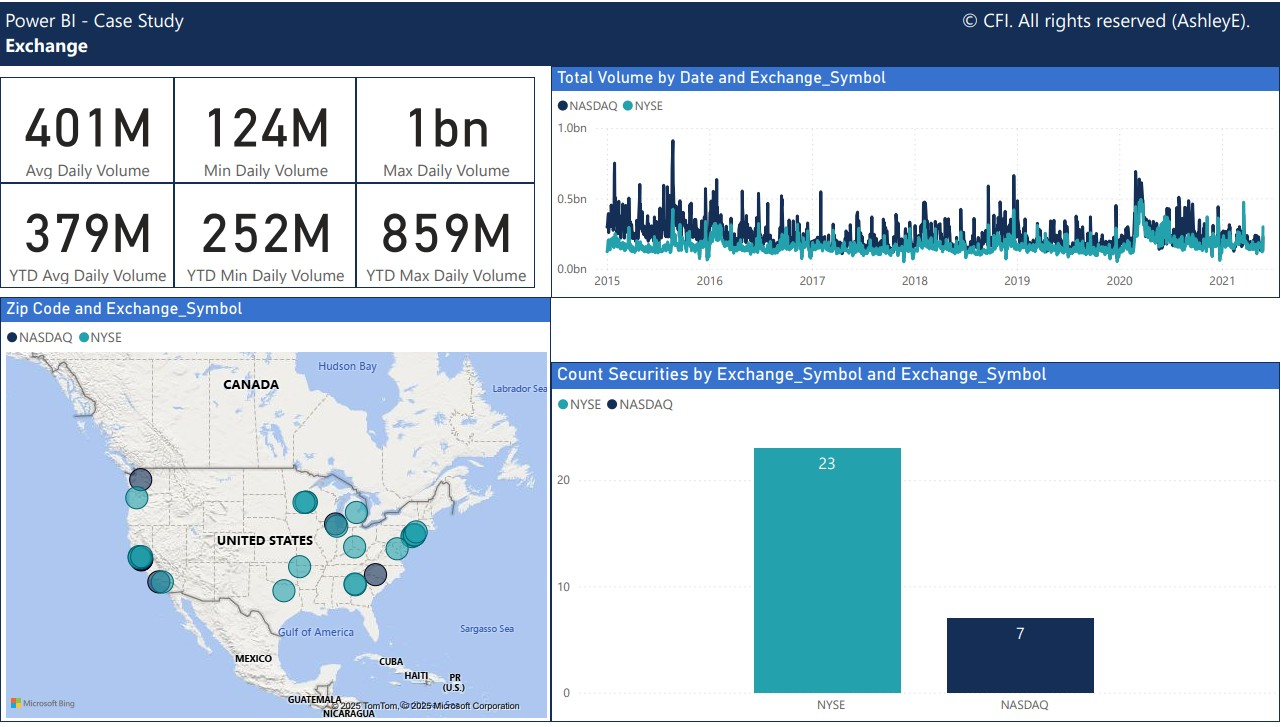

This screenshot's page, from the dashboard's own definition file:
{"tool":"powerbi","page":{"name":"Exchange","canvas":[1280,720],"ordinal":0},"visuals":[{"type":"group","id":"g1","title":"Group 1","box":[0,0,1280,64],"z":0},{"type":"map","fields":{"Category":["dimSecurity.Zip Code"],"Series":["dimExchange.Exchange_Symbol"]},"box":[0,295,550.9,425.1],"z":1000},{"type":"lineChart","fields":{"Y":["factActivity.Total Volume"],"Category":["dimDate.Date"],"Series":["dimExchange.Exchange_Symbol"]},"box":[550.9,64.2,729.1,231.7],"z":2000},{"type":"columnChart","fields":{"Category":["dimExchange.Exchange_Symbol"],"Y":["factActivity.Count Securities"],"Series":["dimExchange.Exchange_Symbol"]},"box":[550.9,360.2,729.1,360.2],"z":3000},{"type":"card","fields":{"Values":["factActivity.Avg Daily Volume"]},"box":[0,75.2,173.5,105.6],"z":4000},{"type":"card","fields":{"Values":["factActivity.Min Daily Volume"]},"box":[173.5,75.2,182.2,105.6],"z":5000},{"type":"card","fields":{"Values":["factActivity.Max Daily Volume"]},"box":[355.7,75.2,179.3,105.6],"z":6000},{"type":"card","fields":{"Values":["factActivity.YTD Avg Daily Volume"]},"box":[0,180.8,173.5,105.6],"z":7000},{"type":"card","fields":{"Values":["factActivity.YTD Min Daily Volume"]},"box":[173.5,180.8,182.2,105.6],"z":8000},{"type":"card","fields":{"Values":["factActivity.YTD Max Daily Volume"]},"box":[355.7,180.8,179.3,105.6],"z":9000},{"type":"shape","box":[0,0,1280,64],"z":14000,"group":"g1"},{"type":"textbox","box":[0,0,1280,64],"z":15000,"group":"g1"}]}

Visuals, with their boxes in screenshot pixels (x1, y1, x2, y2), scaled from the page's 1280x720 canvas onto the 1281x727 screenshot:
"Group 1" group: BBox(0, 0, 1280, 65)
map - dimSecurity.Zip Code x dimExchange.Exchange_Symbol: BBox(0, 298, 551, 726)
lineChart - factActivity.Total Volume x dimDate.Date: BBox(551, 65, 1280, 299)
columnChart - dimExchange.Exchange_Symbol x factActivity.Count Securities: BBox(551, 364, 1280, 726)
card - factActivity.Avg Daily Volume: BBox(0, 76, 174, 183)
card - factActivity.Min Daily Volume: BBox(174, 76, 356, 183)
card - factActivity.Max Daily Volume: BBox(356, 76, 535, 183)
card - factActivity.YTD Avg Daily Volume: BBox(0, 183, 174, 289)
card - factActivity.YTD Min Daily Volume: BBox(174, 183, 356, 289)
card - factActivity.YTD Max Daily Volume: BBox(356, 183, 535, 289)
shape: BBox(0, 0, 1280, 65)
textbox: BBox(0, 0, 1280, 65)
